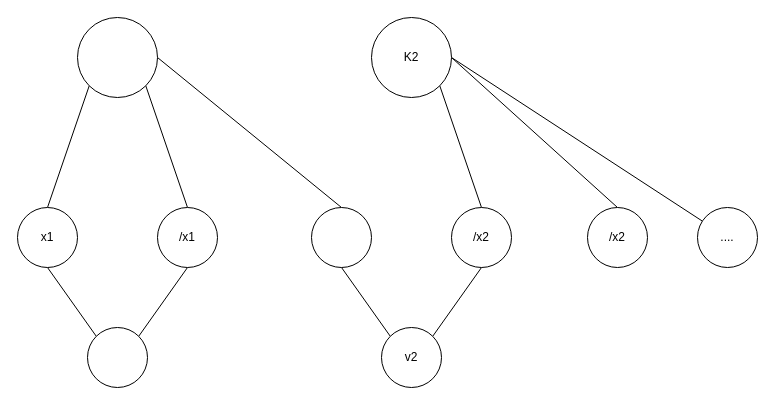
Some shapes in this 775 by 405 pixel diagram are drawn without their labels. Here are the shapes that lost their labels. From the top down, the centre of each, then its label:
pixel 117 57: K1
pixel 341 237: x2
pixel 117 357: v1
